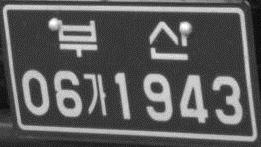0: (21, 67, 51, 115)
1: (111, 69, 133, 122)
3: (210, 75, 243, 127)
4: (176, 71, 210, 123)
6: (52, 68, 84, 119)
9: (141, 72, 174, 123)
가: (81, 71, 109, 118)
부산_D: (54, 16, 191, 64)
